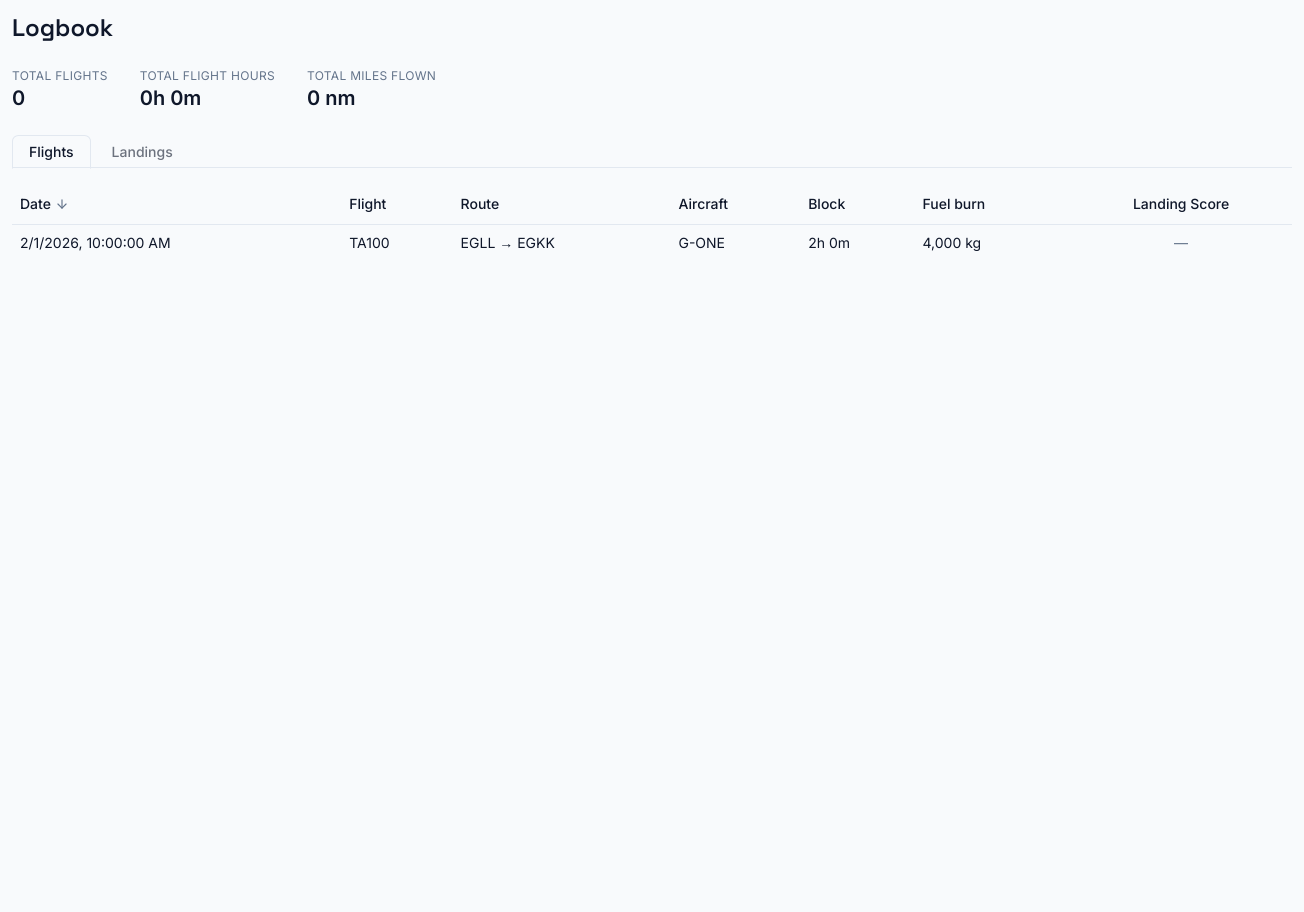
Scenario: FlightDetail › uses the real OFP-derived route and waypoints when the flight has one, skipping the great-circle fallback
Click the text "TA100": (369, 242) 349,232 -> 390,252
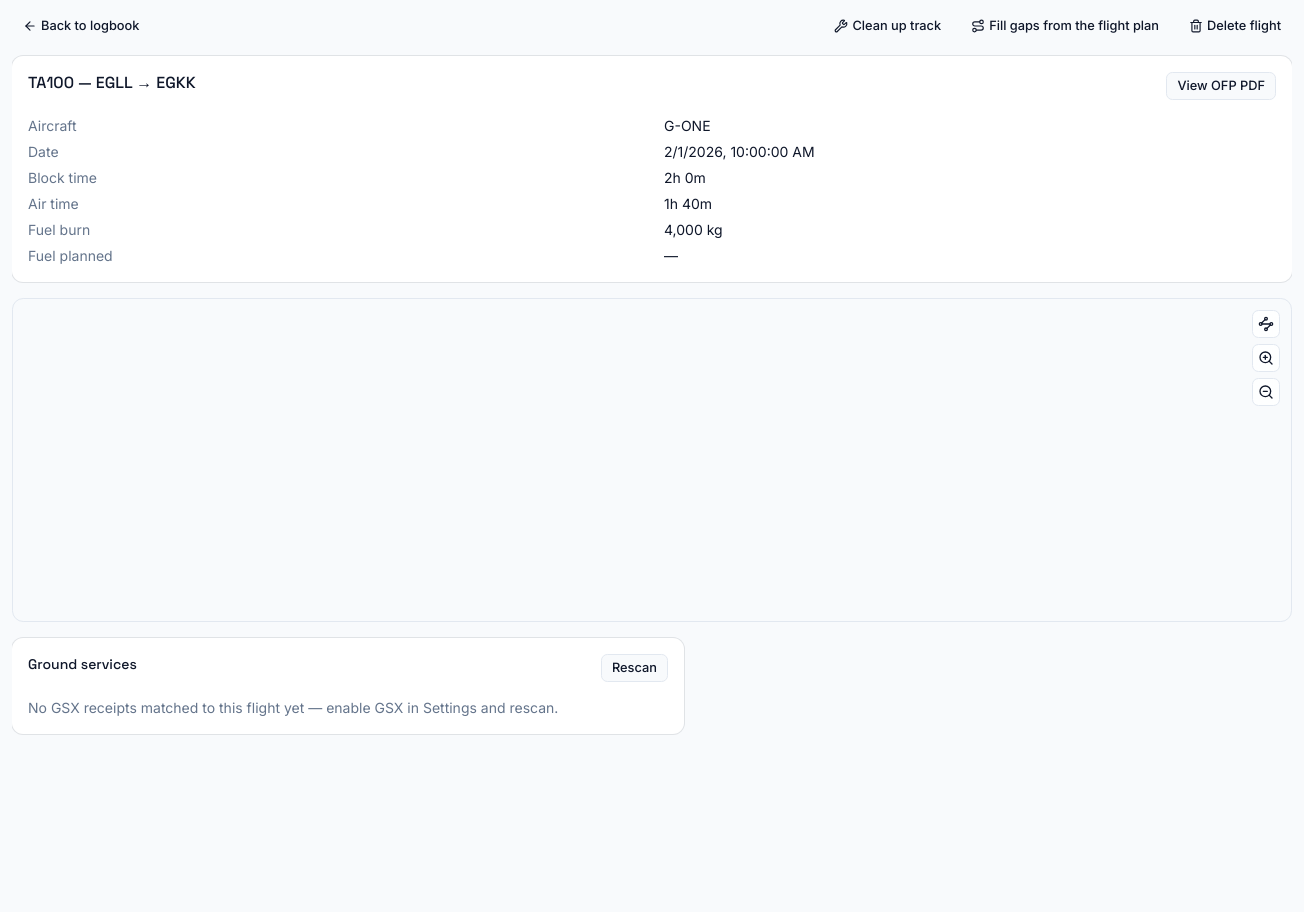
expect the text "TA100 — EGLL → EGKK" is shown: met, box 28,72 -> 196,93
